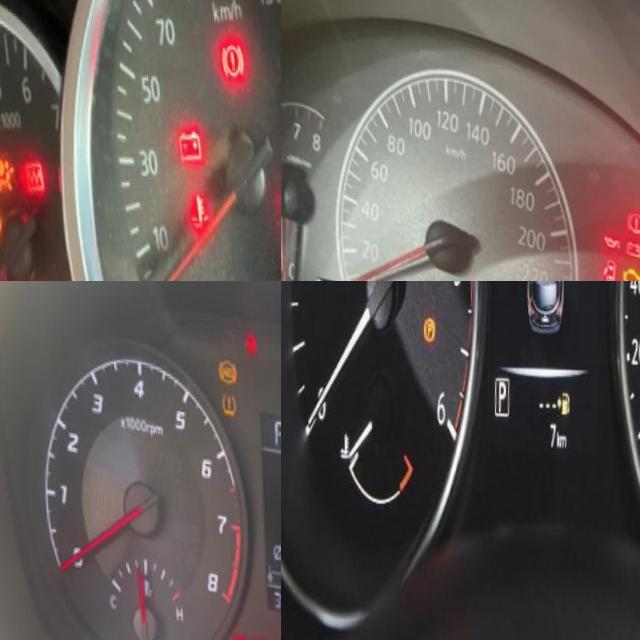Electronic Power Steering: (224, 619, 246, 640)
High Engine Coolant Temperature: (183, 174, 210, 230)
